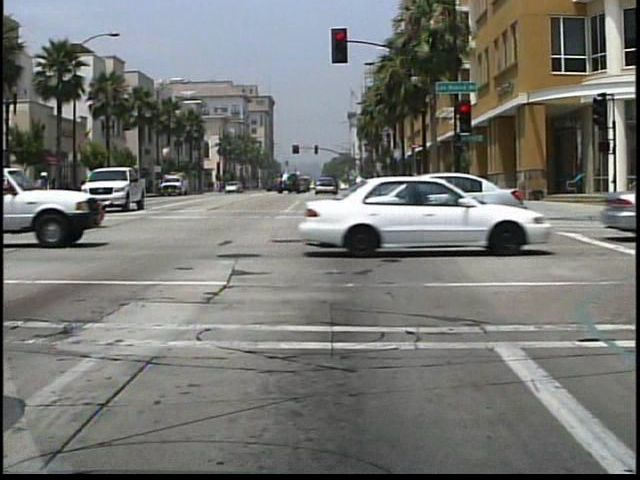person: (34, 169, 59, 215)
